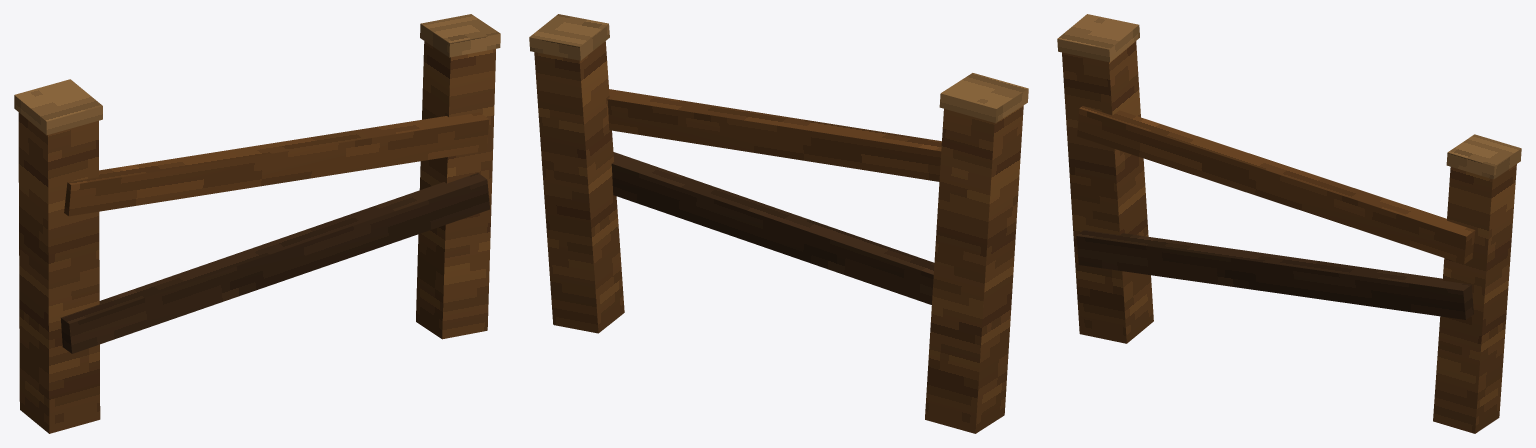
Rendered from fence.glb.
3 views of the same model, side by side, from view 1: azimuth 30°, elevation 25°; view 2: azimuth 150°, elevation 25°; view 3: azimuth 330°, elevation 25° (orthographic). The views are drawn at different scales.
Visible parts, largest first — view 1: fence; view 2: fence; view 3: fence.
Boxes of the visible parts, x1,y1,x2,y2 form: fence: (14, 14, 500, 433); fence: (529, 14, 1028, 433); fence: (1057, 14, 1521, 433).
Bounding box in the file's own units: 1.73 × 1.17 × 0.2667.
4 materials, 4 textured.
